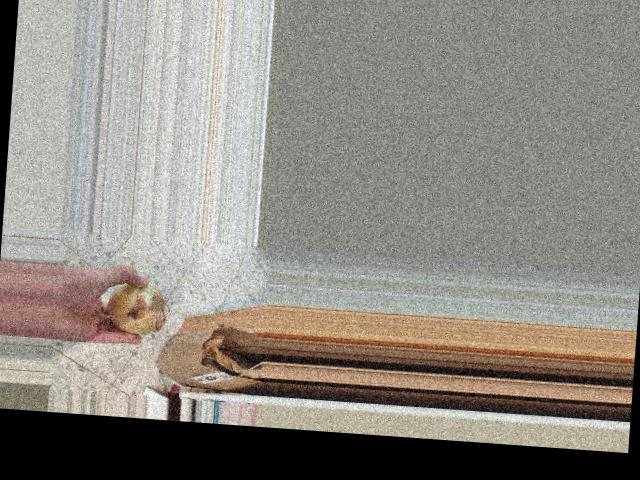onion: (99, 274, 170, 336)
